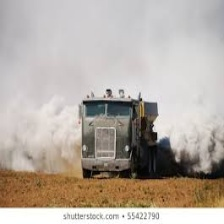smoke: (6, 106, 80, 173), (163, 121, 224, 173)
